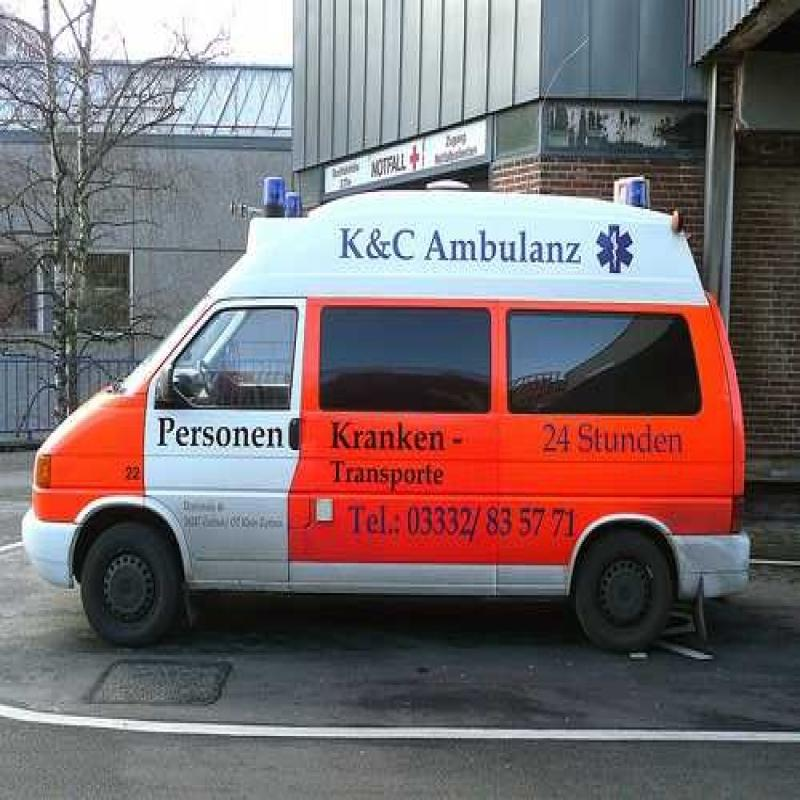AmbulanceSiren: (260, 153, 303, 231)
